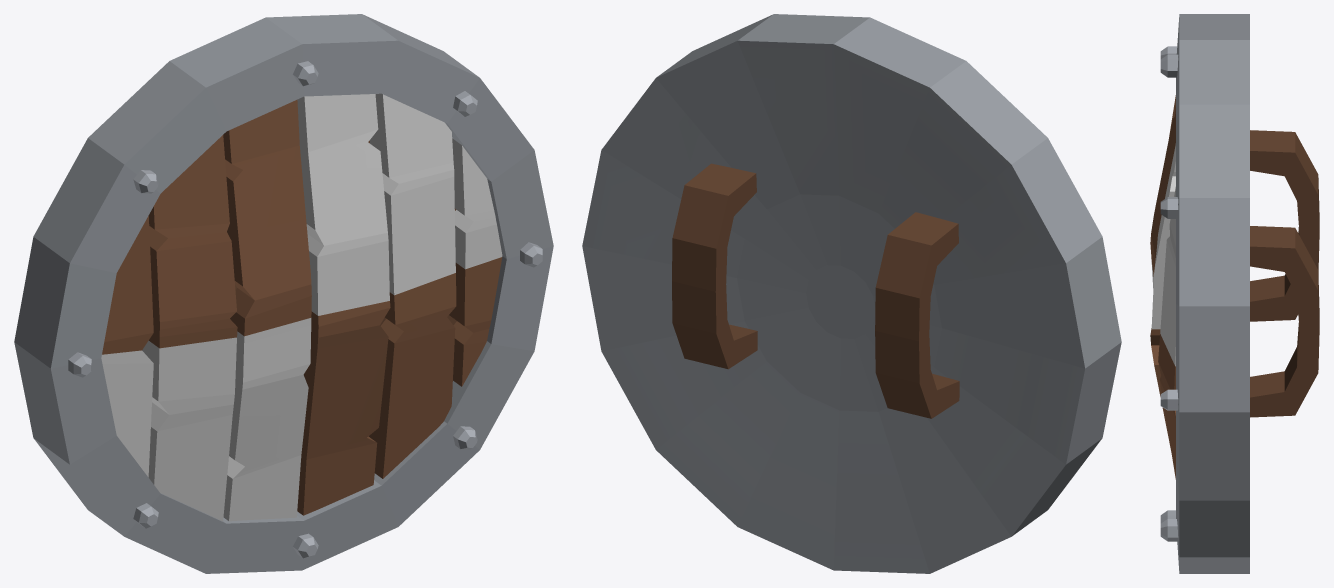
File: paladin-shield-1.glb
3 views of the same model, side by side, from view 1: azimuth 30°, elevation 25°; view 2: azimuth 150°, elevation 25°; view 3: azimuth 270°, elevation 25° (orthographic). The views are drawn at different scales.
Parts seen in each view (by area): view 1: Shield_Round_2_Cylinder.027; view 2: Shield_Round_2_Cylinder.027; view 3: Shield_Round_2_Cylinder.027.
Boxes of the visible parts, x1=… form: Shield_Round_2_Cylinder.027: x1=14, y1=14, x2=553, y2=573; Shield_Round_2_Cylinder.027: x1=582, y1=14, x2=1121, y2=573; Shield_Round_2_Cylinder.027: x1=1150, y1=14, x2=1319, y2=573.
Size of the model in its own units: 2 by 2 by 0.6037.
